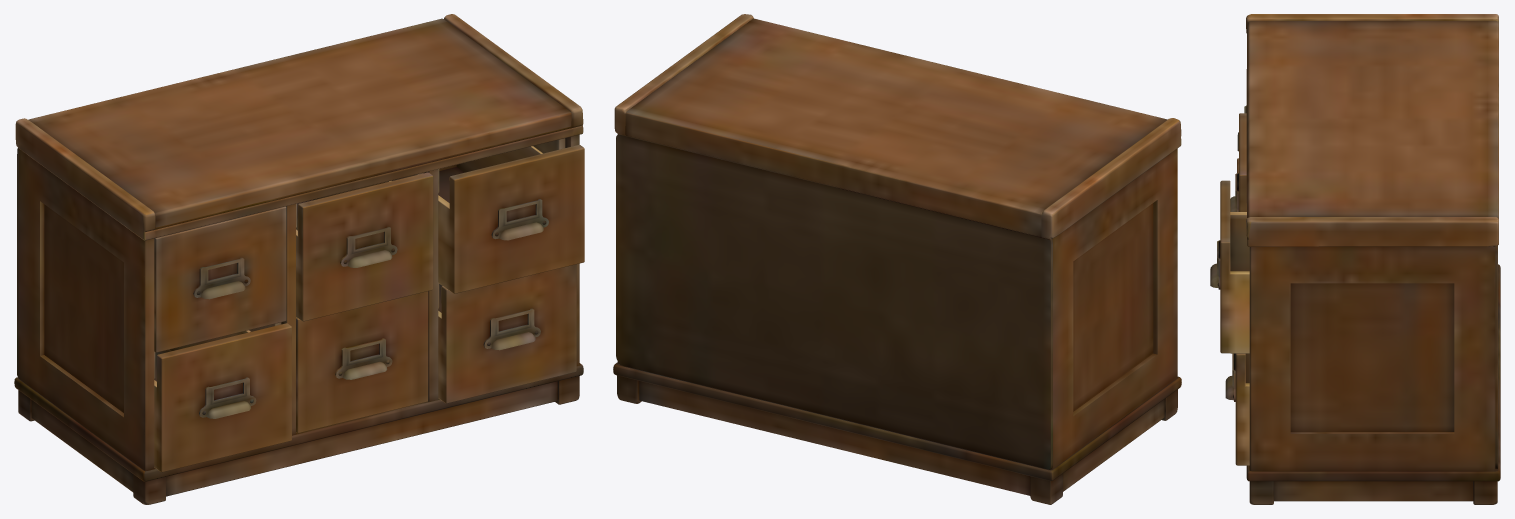
File: drawers.glb
The picture shows the model from 3 angles, left to right: view 1: azimuth 30°, elevation 25°; view 2: azimuth 150°, elevation 25°; view 3: azimuth 270°, elevation 25°; orthographic projection. The views are drawn at different scales.
Parts seen in each view (by area): view 1: Cube.120, Cube.131, Cube.135, Cube.129, Cube.128, Cube.133, Cube.125; view 2: Cube.120; view 3: Cube.120, Cube.131, Cube.133, Cube.129.
Part boxes in pixels (x1=…): Cube.120: x1=14, y1=14, x2=583, y2=504; Cube.131: x1=438, y1=145, x2=584, y2=293; Cube.135: x1=154, y1=323, x2=291, y2=472; Cube.129: x1=296, y1=172, x2=433, y2=321; Cube.128: x1=154, y1=206, x2=286, y2=352; Cube.133: x1=438, y1=264, x2=576, y2=403; Cube.125: x1=296, y1=291, x2=428, y2=433; Cube.120: x1=613, y1=14, x2=1181, y2=504; Cube.120: x1=1246, y1=14, x2=1500, y2=504; Cube.131: x1=1210, y1=180, x2=1249, y2=353; Cube.133: x1=1225, y1=353, x2=1249, y2=465; Cube.129: x1=1230, y1=113, x2=1246, y2=211.
Bounding box in the file's own units: 1.72 × 1.09 × 1.01.
Materials: 1 (1 with a texture image).
